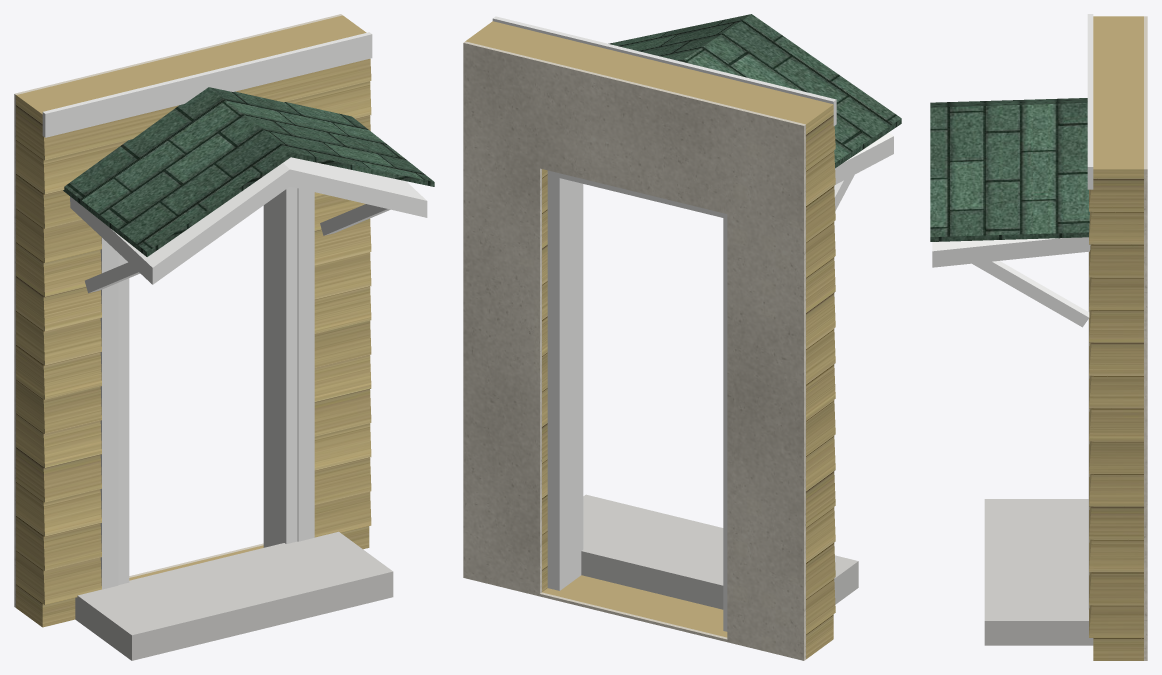
The model's file is wall_siding_door_hood.glb.
3 renders of one model, left to right at view 1: azimuth 30°, elevation 25°; view 2: azimuth 150°, elevation 25°; view 3: azimuth 270°, elevation 25°, orthographic. The views are drawn at different scales.
Visible parts, largest first — view 1: wall_siding_door_hood_siding, wall_siding_door_hood_trim, wall_siding_door_hood_shingle, wall_siding_door_hood_concrete, wall_siding_door_hood_frame, wall_siding_door_hood_plaster; view 2: wall_siding_door_hood_plaster, wall_siding_door_hood_siding, wall_siding_door_hood_frame, wall_siding_door_hood_concrete, wall_siding_door_hood_shingle, wall_siding_door_hood_trim; view 3: wall_siding_door_hood_siding, wall_siding_door_hood_shingle, wall_siding_door_hood_concrete, wall_siding_door_hood_trim, wall_siding_door_hood_plaster.
Part boxes in pixels (x1=…): wall_siding_door_hood_siding: x1=16, y1=15, x2=371, y2=627; wall_siding_door_hood_trim: x1=42, y1=32, x2=427, y2=589; wall_siding_door_hood_shingle: x1=63, y1=87, x2=434, y2=256; wall_siding_door_hood_concrete: x1=75, y1=531, x2=393, y2=660; wall_siding_door_hood_frame: x1=118, y1=186, x2=297, y2=584; wall_siding_door_hood_plaster: x1=14, y1=14, x2=342, y2=607; wall_siding_door_hood_plaster: x1=463, y1=41, x2=805, y2=660; wall_siding_door_hood_siding: x1=465, y1=21, x2=835, y2=659; wall_siding_door_hood_frame: x1=547, y1=170, x2=727, y2=631; wall_siding_door_hood_concrete: x1=581, y1=494, x2=858, y2=609; wall_siding_door_hood_shingle: x1=608, y1=14, x2=901, y2=168; wall_siding_door_hood_trim: x1=492, y1=16, x2=893, y2=210; wall_siding_door_hood_siding: x1=1089, y1=16, x2=1143, y2=660; wall_siding_door_hood_shingle: x1=930, y1=98, x2=1089, y2=241; wall_siding_door_hood_concrete: x1=984, y1=499, x2=1093, y2=645; wall_siding_door_hood_trim: x1=932, y1=14, x2=1093, y2=609; wall_siding_door_hood_plaster: x1=1144, y1=16, x2=1147, y2=660.
Size of the model in its own units: 2 by 3.02 by 1.2.
6 materials, 3 textured.
